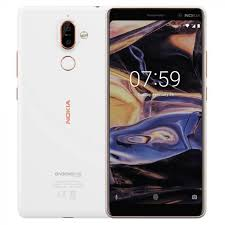nokia: (103, 5, 207, 221), (14, 1, 111, 221)
